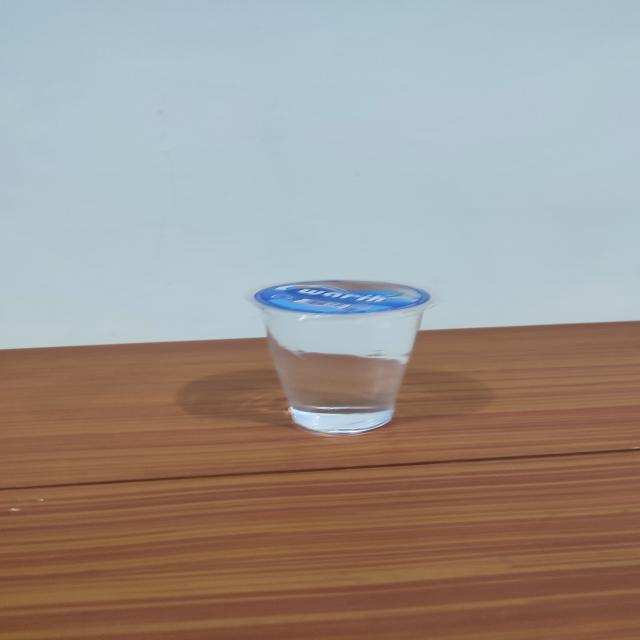air gelas: (245, 276, 440, 442)
